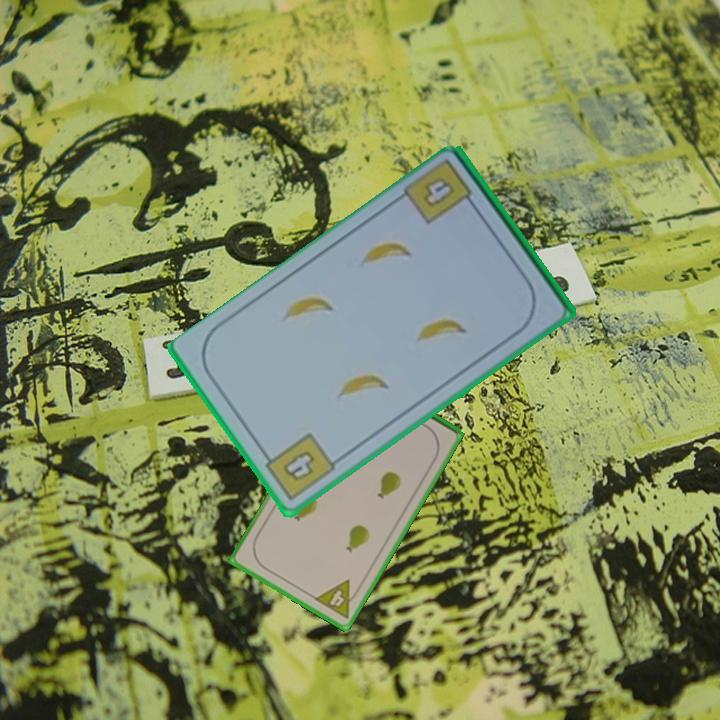4b: (258, 429, 339, 504), (423, 177, 454, 208)
4p: (311, 576, 364, 622)
